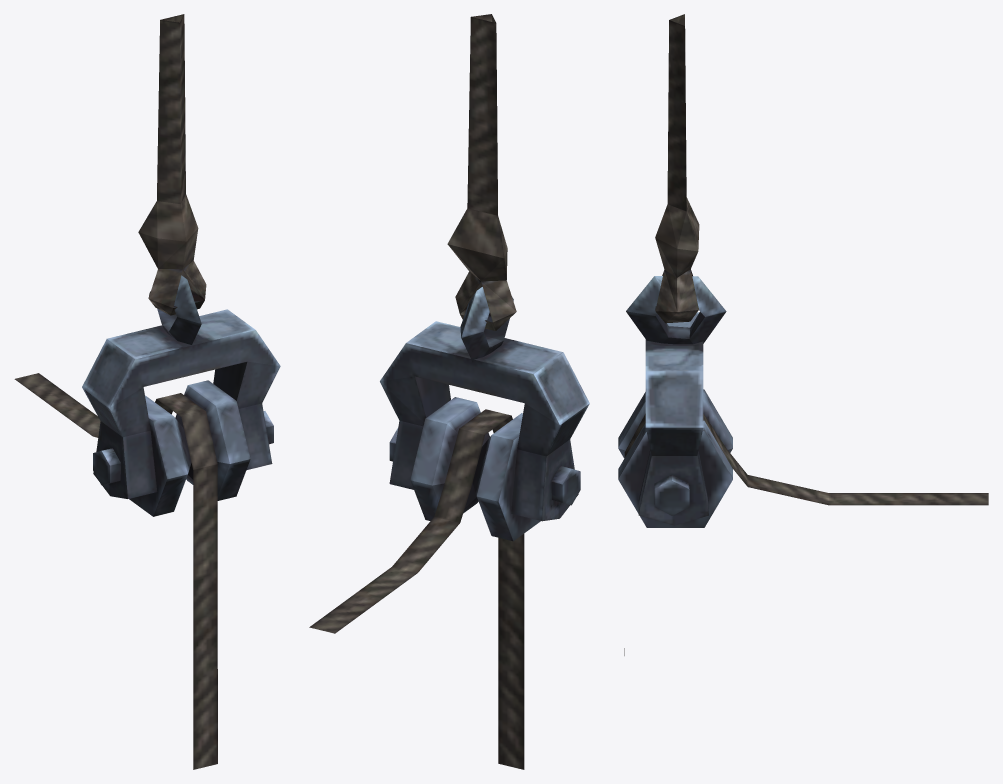
File: mine_pulley01.fbx
3 views of the same model, side by side, from view 1: azimuth 30°, elevation 25°; view 2: azimuth 150°, elevation 25°; view 3: azimuth 270°, elevation 25° (orthographic). The views are drawn at different scales.
Parts seen in each view (by area): view 1: mine_wall_pulley01; view 2: mine_wall_pulley01; view 3: mine_wall_pulley01.
Part boxes in pixels (x1=…): mine_wall_pulley01: x1=14, y1=14, x2=280, y2=769; mine_wall_pulley01: x1=309, y1=14, x2=589, y2=769; mine_wall_pulley01: x1=618, y1=14, x2=988, y2=655.
Bounding box in the file's own units: 0.5879 × 2.4 × 1.09.
